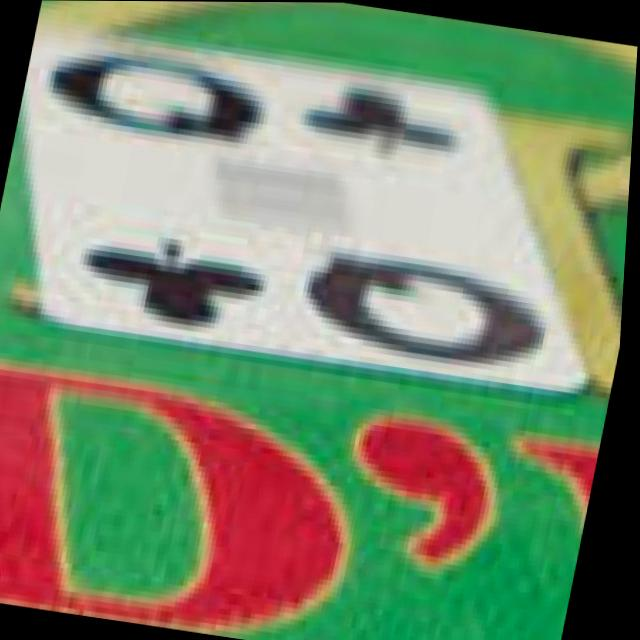Card-Q: (28, 41, 591, 383)
